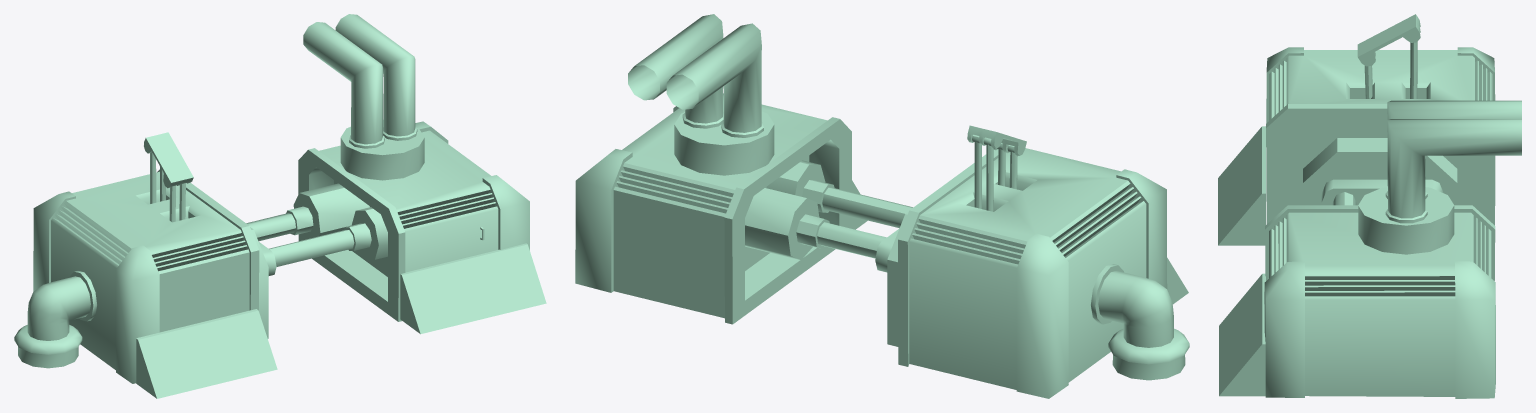
Rendered from generator2.fbx.
The picture shows the model from 3 angles, left to right: view 1: azimuth 30°, elevation 25°; view 2: azimuth 150°, elevation 25°; view 3: azimuth 270°, elevation 25°; orthographic projection. The views are drawn at different scales.
Visible parts, largest first — view 1: c2a1a_generator; view 2: c2a1a_generator; view 3: c2a1a_generator.
Part boxes in pixels (x1,y1,x2,y2): c2a1a_generator: (14, 14, 546, 398); c2a1a_generator: (575, 14, 1189, 398); c2a1a_generator: (1218, 14, 1521, 398).
Size of the model in its own units: 526 by 230 by 261.
